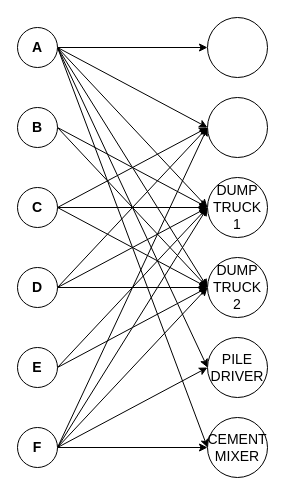
This 285x495 diagram has some shape labels left out. Here are the shapes that lost their labels. From the top down, the centre of each, then its label:
At [237,47]: "CRANE".
At [237,127]: "BULL DOZER".
